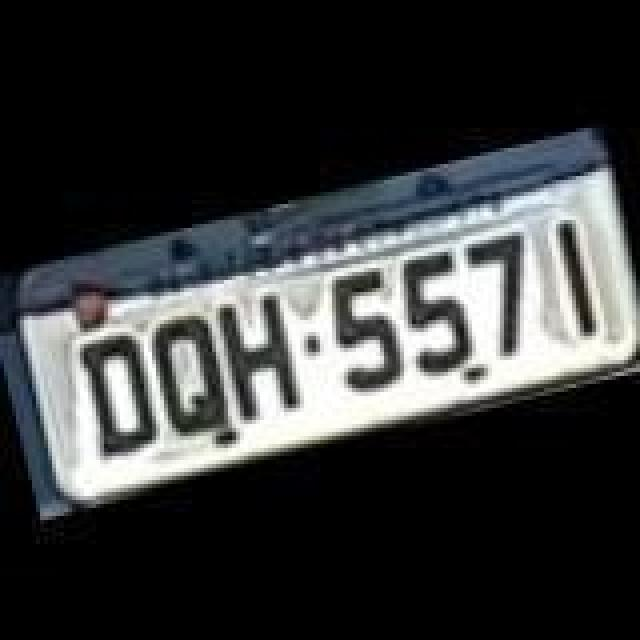1: (544, 210, 608, 342)
5: (320, 258, 416, 398), (392, 246, 480, 378)
7: (468, 234, 548, 358)
D: (72, 322, 168, 462)
H: (214, 282, 314, 422)
Q: (142, 308, 242, 444)
